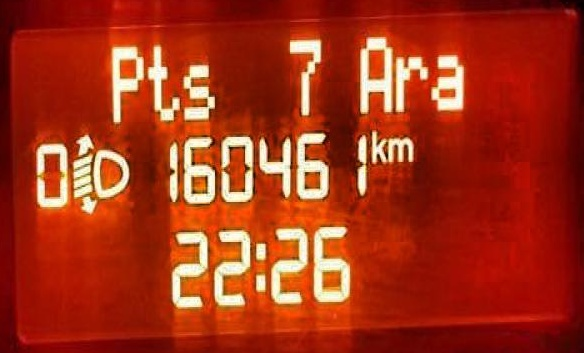0: (216, 130, 256, 203), (31, 136, 70, 210)
1: (345, 127, 370, 198), (160, 136, 181, 205)
2: (166, 223, 208, 310), (211, 221, 252, 310), (268, 220, 307, 308)
4: (256, 131, 292, 200)
6: (308, 220, 353, 308), (294, 125, 330, 203), (182, 132, 216, 207)
7: (284, 30, 324, 121)
X: (105, 36, 145, 125), (354, 30, 394, 115), (146, 38, 181, 123), (428, 48, 467, 113), (392, 48, 428, 115), (181, 57, 217, 123), (387, 131, 414, 165), (253, 235, 267, 296), (370, 123, 387, 167)
